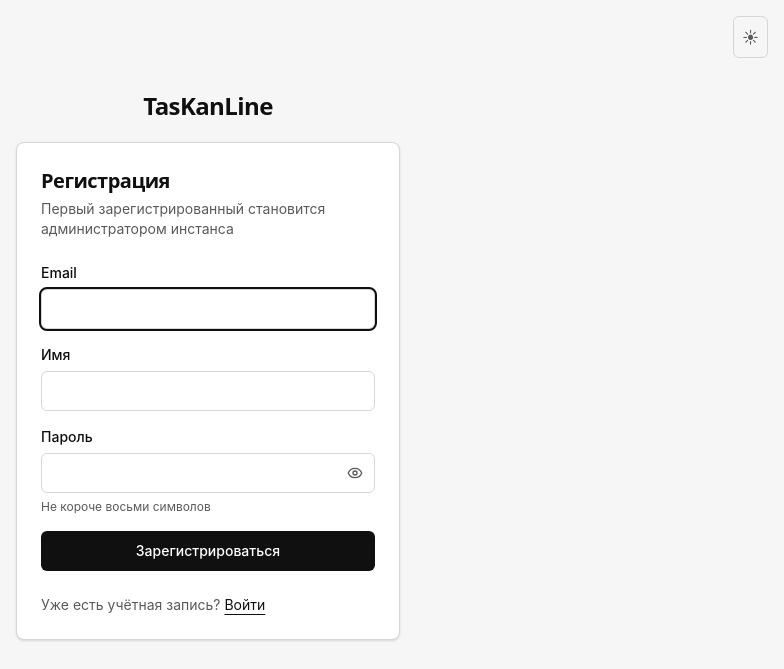
Test: экран регистрации › требует пароль не короче восьми символов
Expected: the button "Зарегистрироваться" is shown, [41, 531, 375, 571]
Type "ivan@example.com" into the field labelled "Email" at (208, 309), box [41, 289, 375, 329]
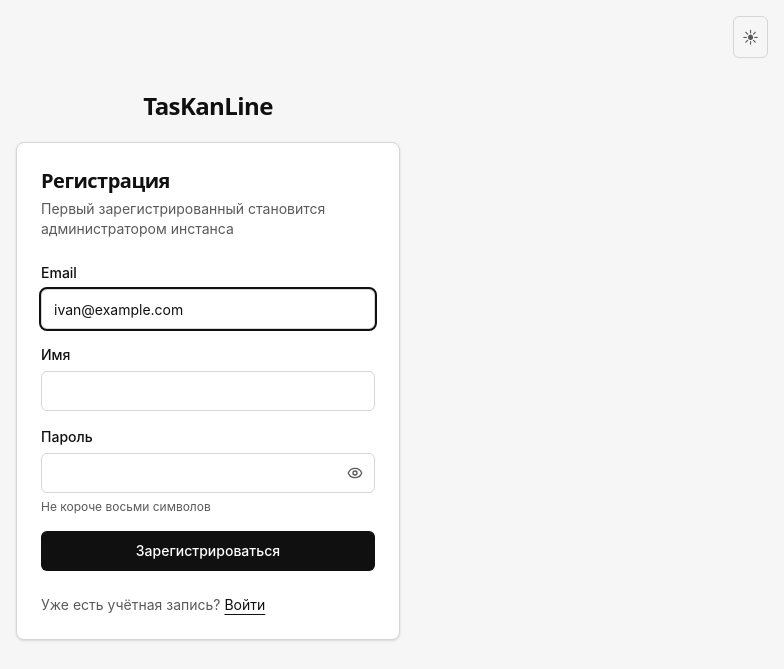
Type "Иван Иванов" into the field labelled "Имя" at (208, 391), box [41, 371, 375, 411]
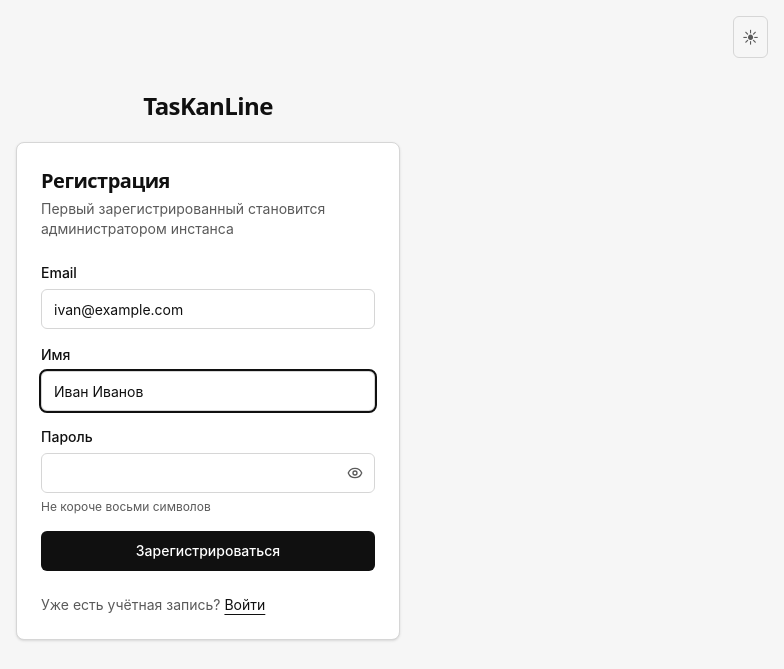
Type "short" into the password field labelled "Пароль" at (208, 473), box [41, 453, 375, 493]
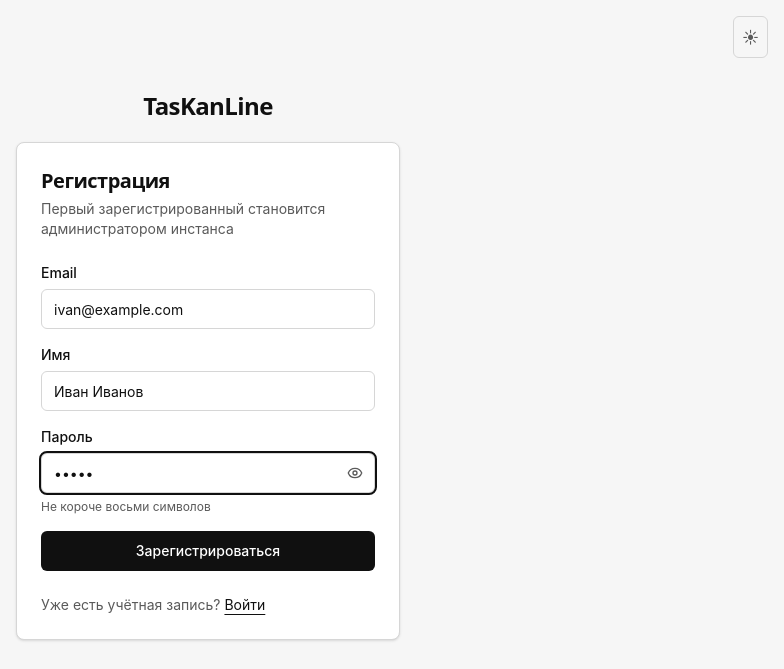
Click the button "Зарегистрироваться" at (208, 551), box [41, 531, 375, 571]
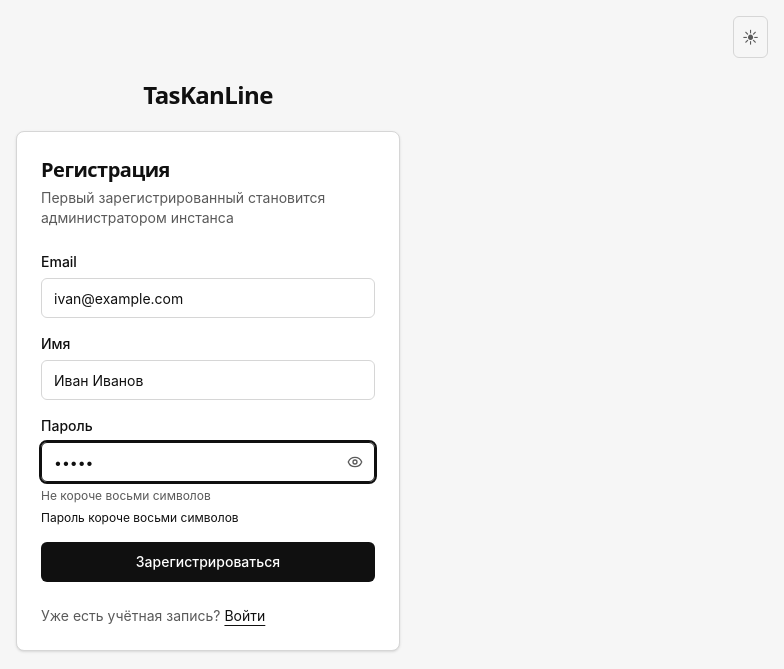
Result: the text "Пароль короче восьми символов" is shown at [41, 510, 239, 525]
